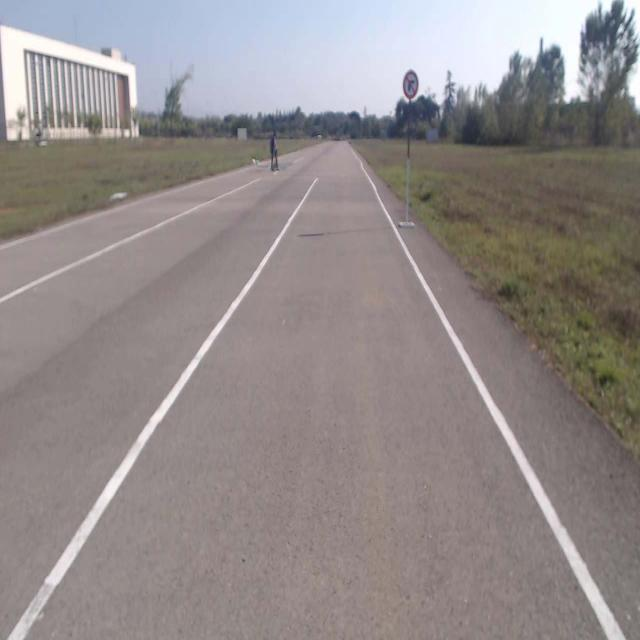sagadonulmez: (403, 70, 417, 98)
